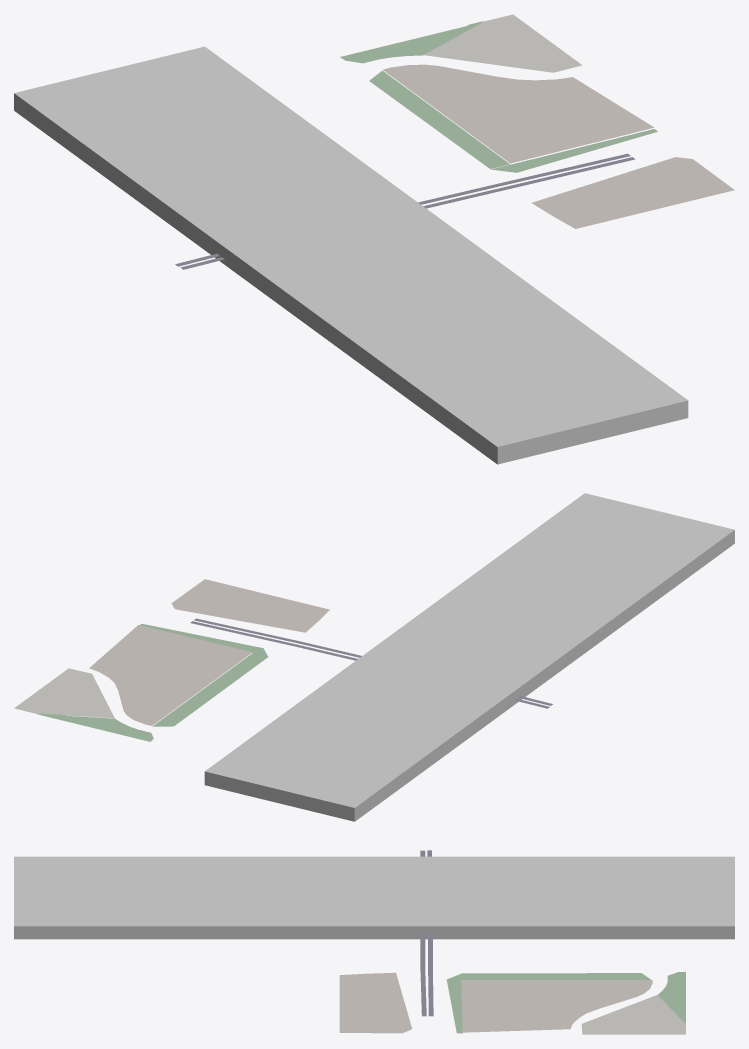
The model's file is 123_66_mid.glb.
3 renders of one model, top to bottom at view 1: azimuth 30°, elevation 25°; view 2: azimuth 150°, elevation 25°; view 3: azimuth 270°, elevation 25°, orthographic. The views are drawn at different scales.
Bounding box in the file's own units: 632 × 20.8 × 1040.
